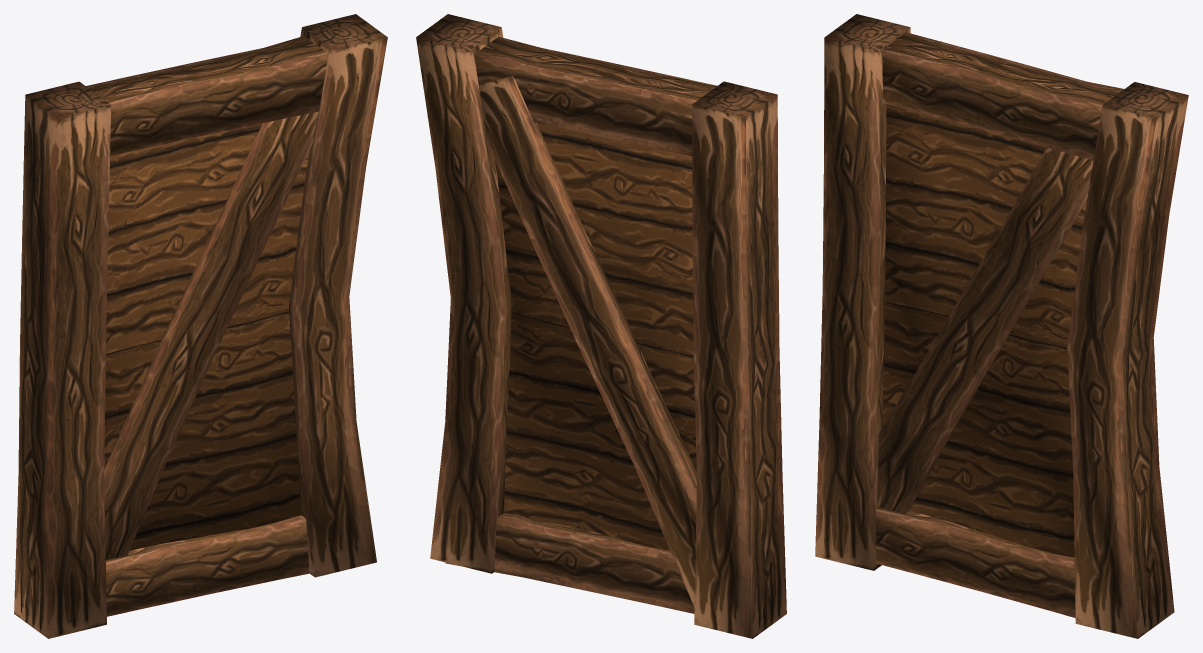
Rendered from door_barn.fbx.
3 renders of one model, left to right at view 1: azimuth 30°, elevation 25°; view 2: azimuth 150°, elevation 25°; view 3: azimuth 330°, elevation 25°, orthographic.
Parts seen in each view (by area): view 1: door_barn; view 2: door_barn; view 3: door_barn.
Boxes of the visible parts, <box> form: door_barn: <box>14,14,387,638</box>; door_barn: <box>416,14,786,638</box>; door_barn: <box>815,14,1188,638</box>.
Size of the model in its own units: 110 by 161 by 21.25.
